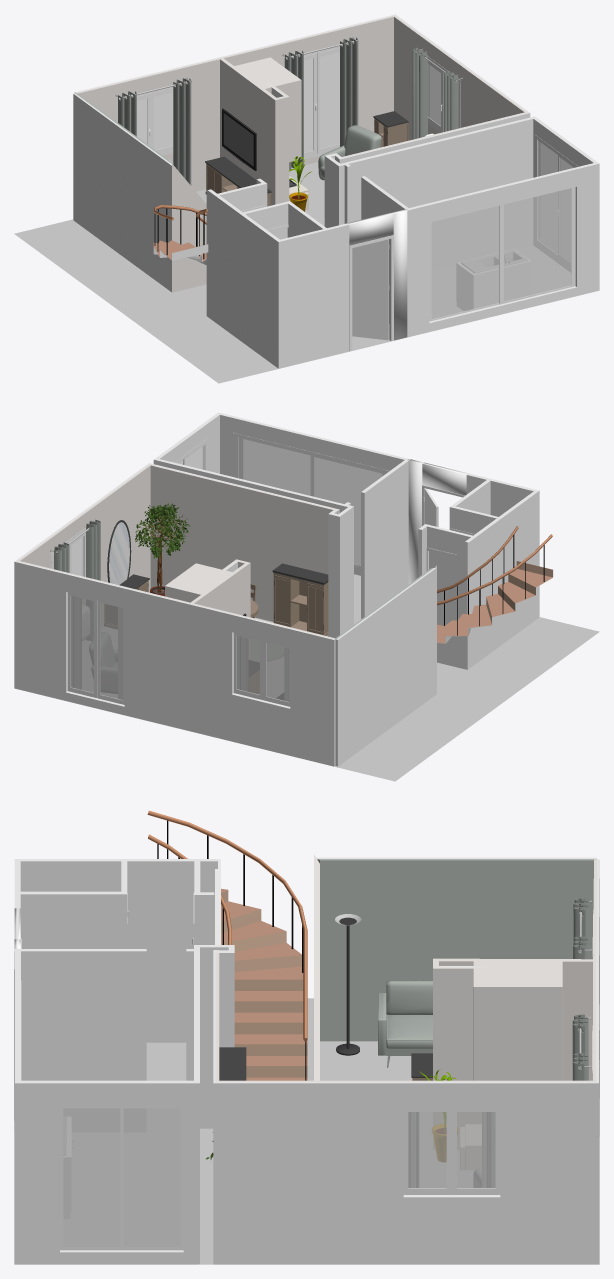
Rendered from floorplan2.glb.
The picture shows the model from 3 angles, top to bottom: view 1: azimuth 30°, elevation 25°; view 2: azimuth 150°, elevation 25°; view 3: azimuth 270°, elevation 25°; orthographic projection. The views are drawn at different scales.
Visible parts, largest first — view 1: MaisonHA; view 2: MaisonHA; view 3: MaisonHA.
Part boxes in pixels (bbox=[...]): MaisonHA: bbox=[14, 14, 599, 383]; MaisonHA: bbox=[14, 412, 599, 781]; MaisonHA: bbox=[14, 810, 599, 1264].
Size of the model in its own units: 7.88 by 2.6 by 7.33.
53 materials, 4 textured.
